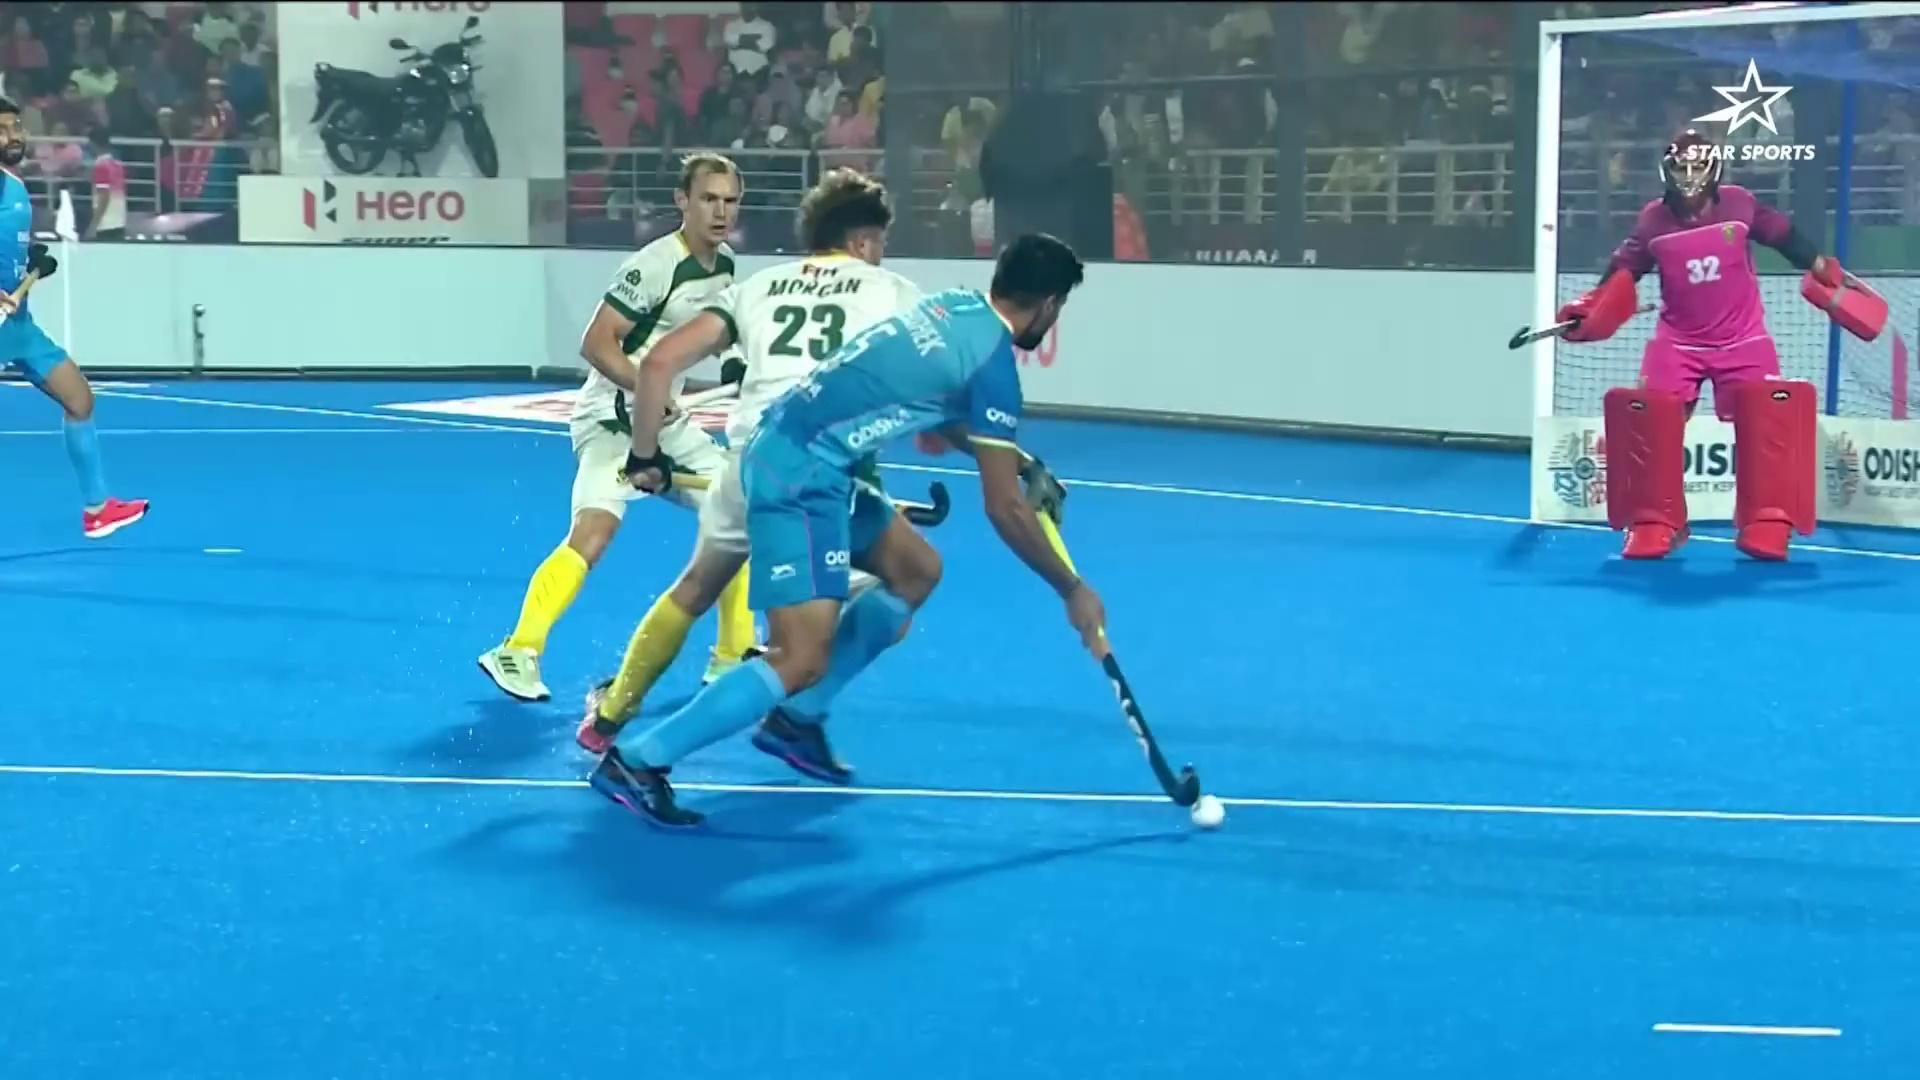ball: (1171, 771, 1244, 847)
